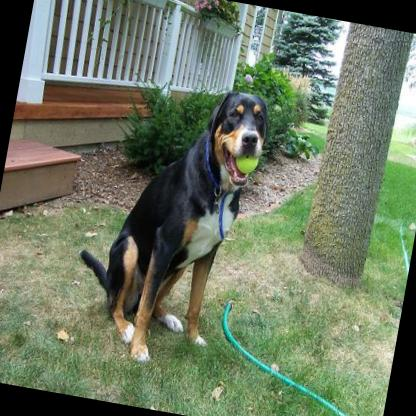Greater_Swiss_Mountain_dog: (61, 65, 272, 378)
